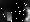person: (24, 8, 30, 22), (8, 10, 13, 21)
